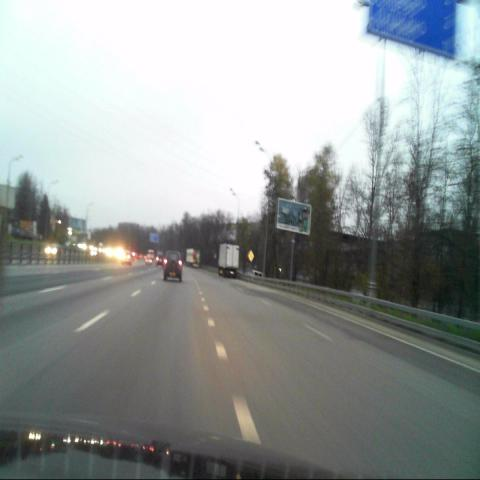2_1: (247, 249, 254, 262)
